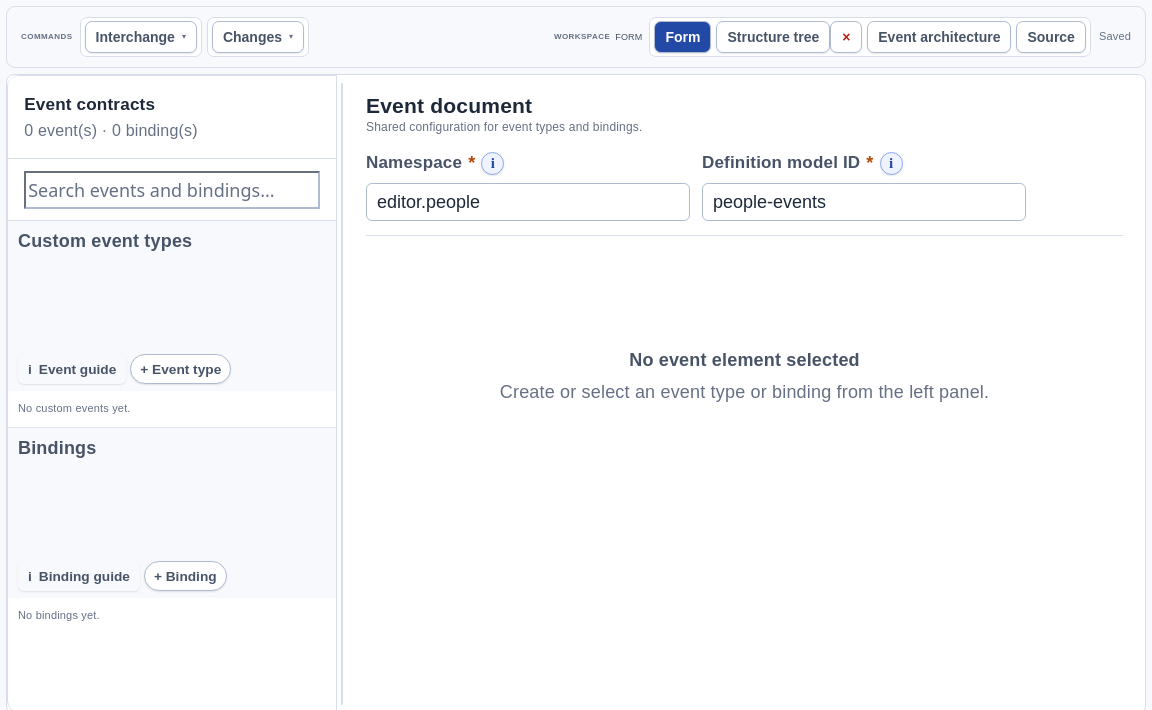
Test: event designer › creates several custom events from the architecture palette
What coordinates should you click on to do the following:
click the button "Event architecture"
I would click on:
 (939, 37)
Its box is [867,21,1012,53].
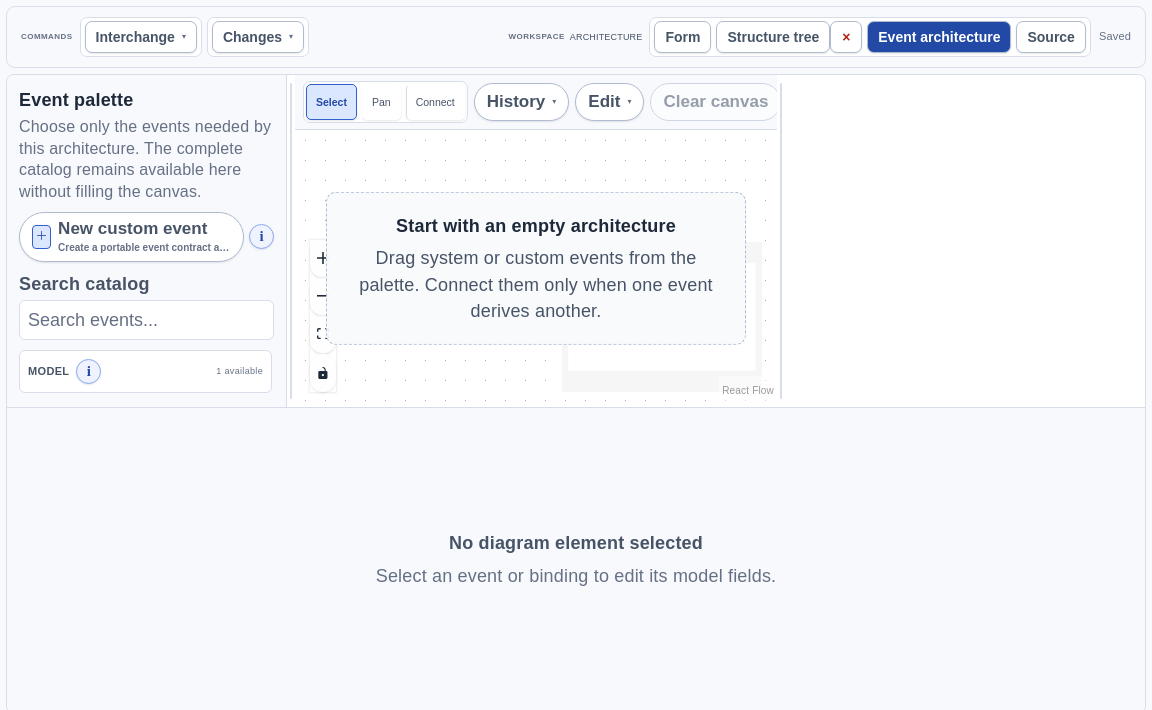
What coordinates should you click on to do the following:
click the button "New custom event"
I would click on:
 (132, 237)
Its box is [19,212,244,262].
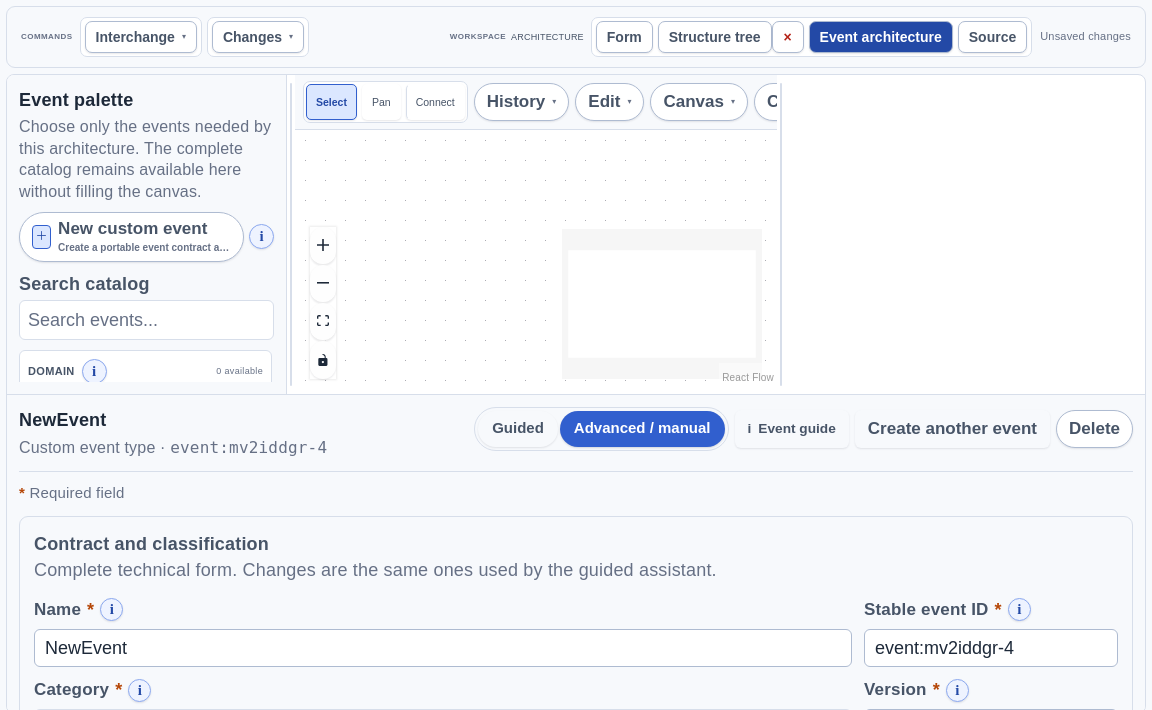
What coordinates should you click on to do the following:
click the button "New custom event"
I would click on:
 (132, 237)
Its box is [19,212,244,262].
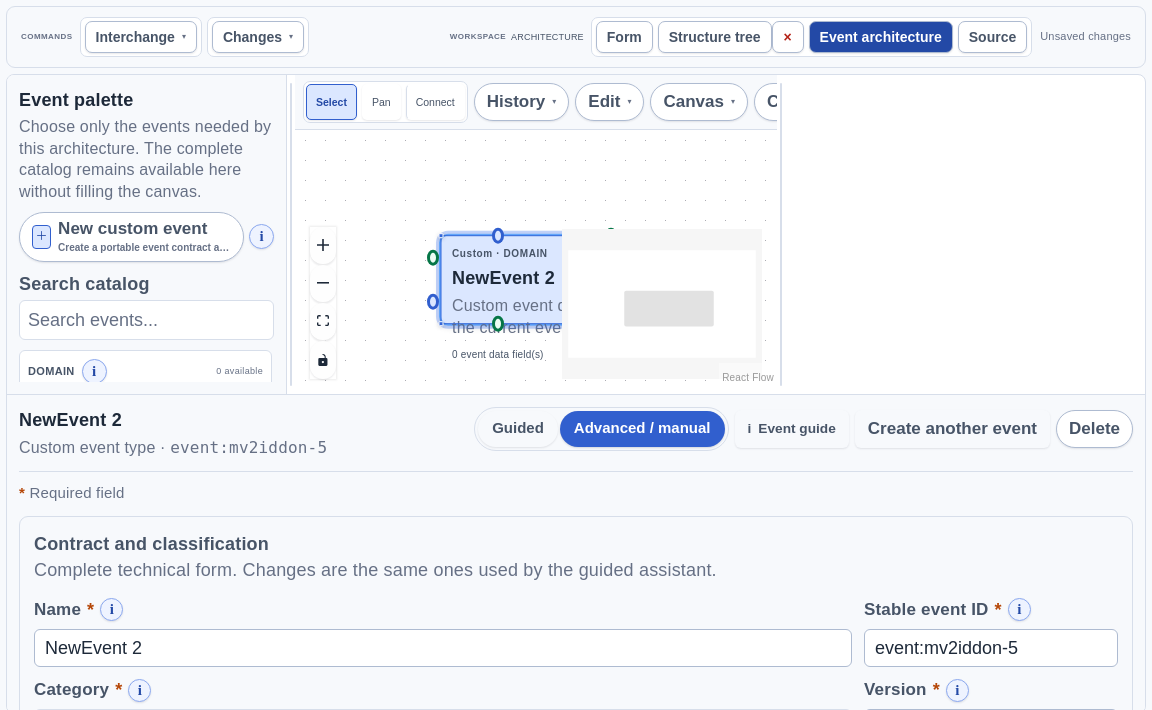
Result: the element named "Target connection point for NewEvent 2" is shown at [428,251,438,265]
